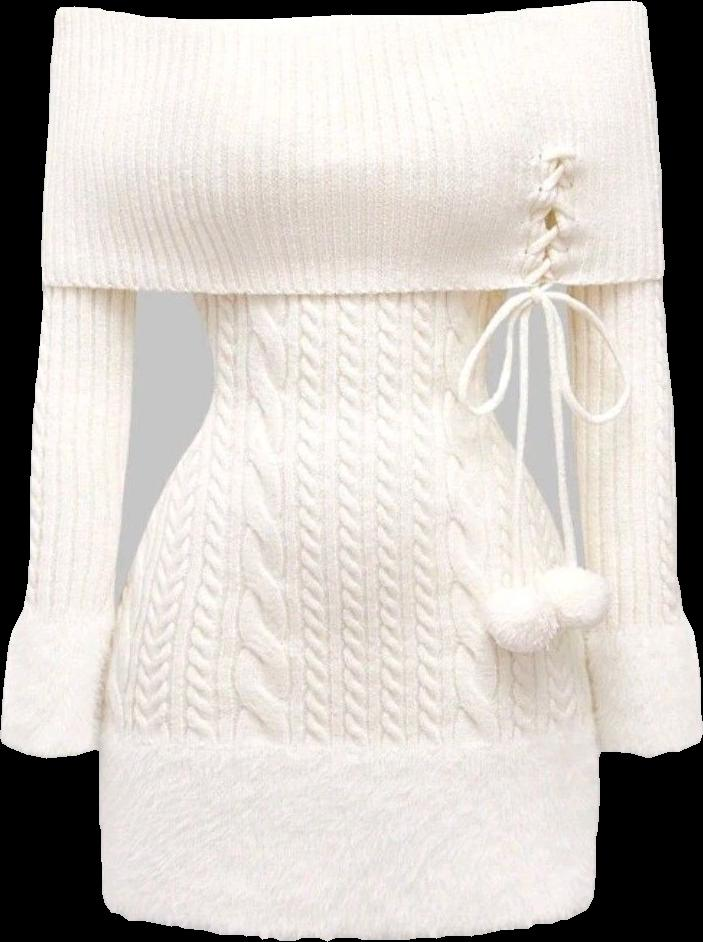Bodice: (42, 1, 662, 387)
Hemline: (101, 896, 598, 941)
Neckline: (52, 0, 647, 29)
Skirt: (99, 386, 600, 940)
Sleeve: (1, 278, 139, 757), (571, 278, 702, 756)
Sleeveline: (39, 274, 145, 295), (571, 267, 664, 287)
Waistline: (38, 267, 664, 299)
